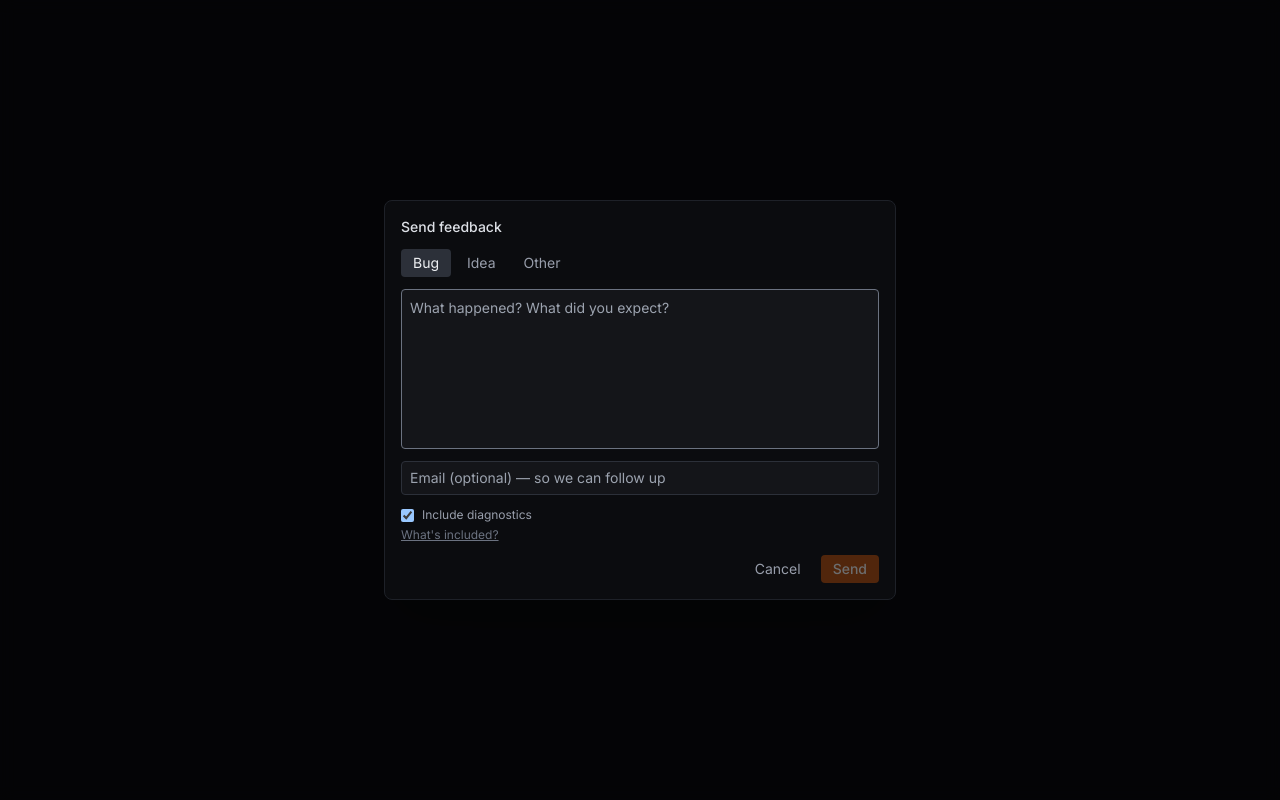
Test: FeedbackDialog › disables Send until a message is typed
This screenshot has width=1280, height=800.
expect the button "Send" is disabled: met, box [821,555,879,583]
Step 1. Type "hello" into the text box named "message" → (640, 369), box [401,289,879,449]
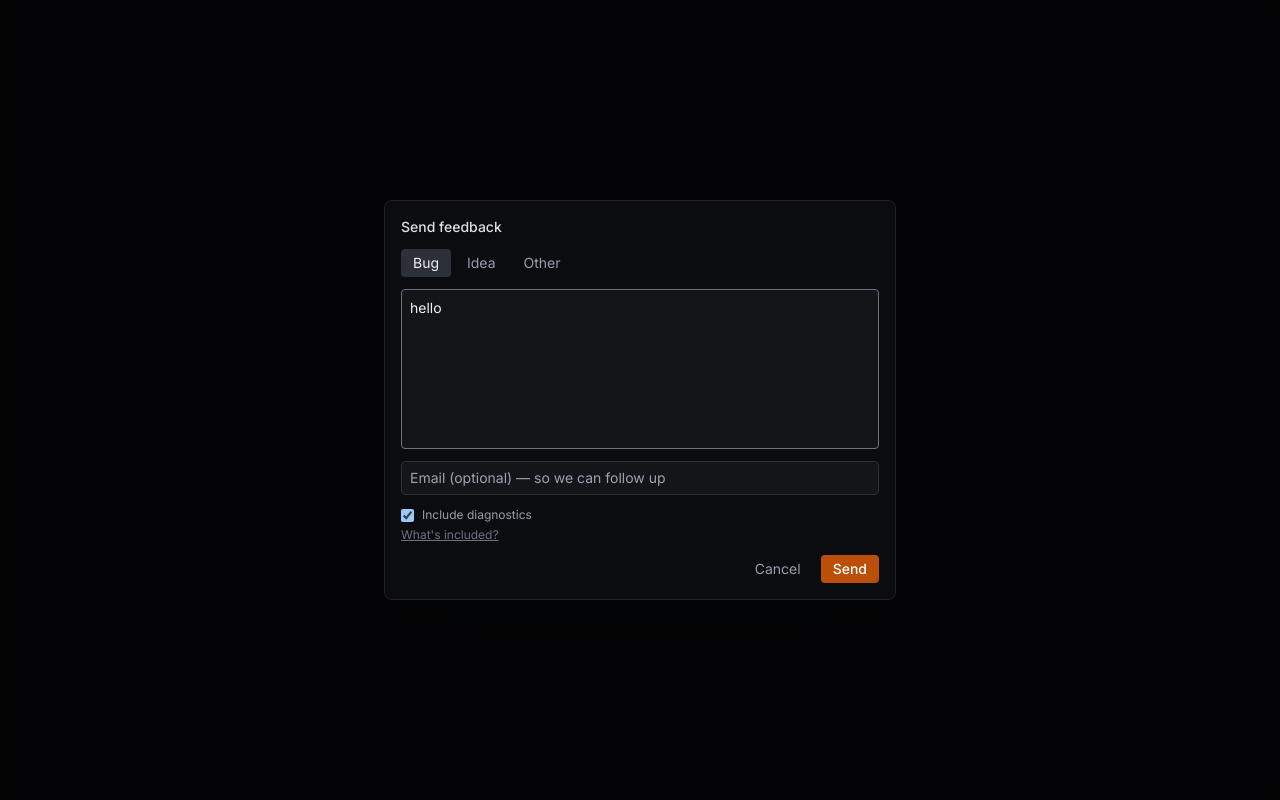
expect the button "Send" is enabled: met, box [821,555,879,583]
